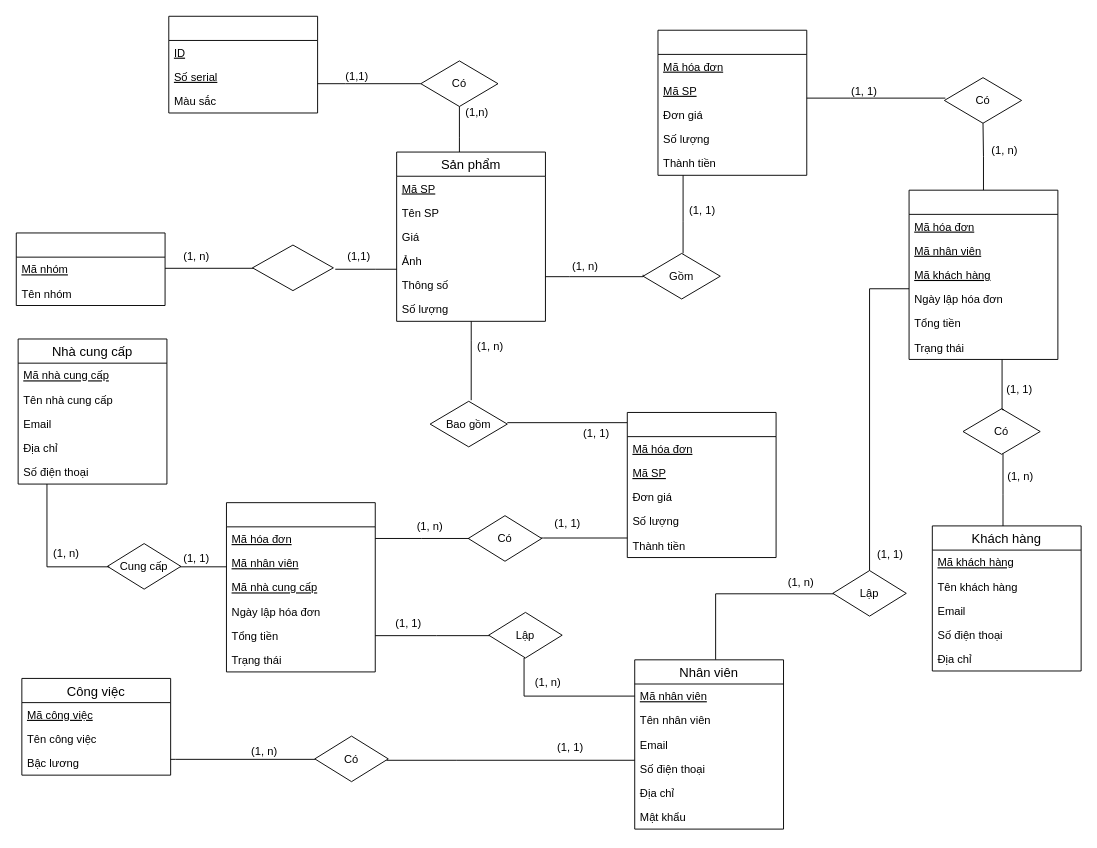
Image size: 1097x848. Some labels were removed from this diagram. Each missing label, with the box of its shape:
Chi tiết SP: (168, 15, 318, 113)
CT Hóa đơn nhập: (626, 412, 776, 558)
CT Hóa đơn xuất: (657, 29, 807, 175)
Hóa đơn nhập: (226, 502, 375, 672)
Hóa đơn xuất: (908, 189, 1058, 359)
Nhóm SP: (15, 232, 165, 306)
Thuộc: (252, 244, 333, 291)
